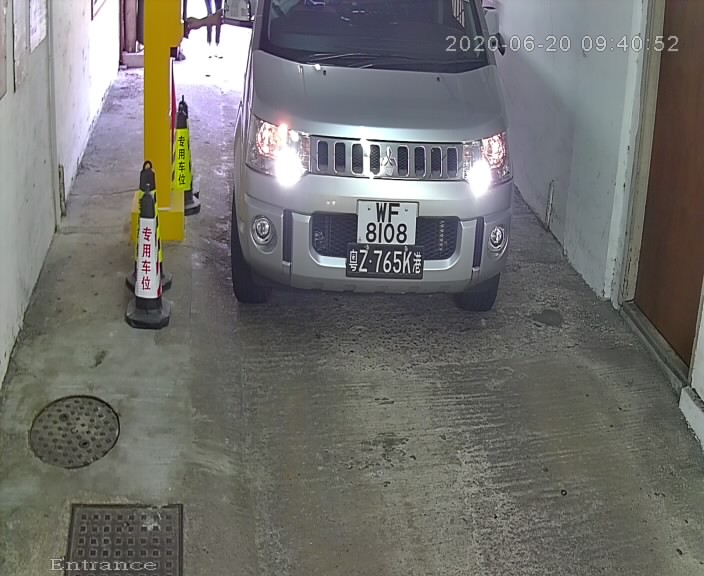privatecar: (205, 3, 525, 319)
